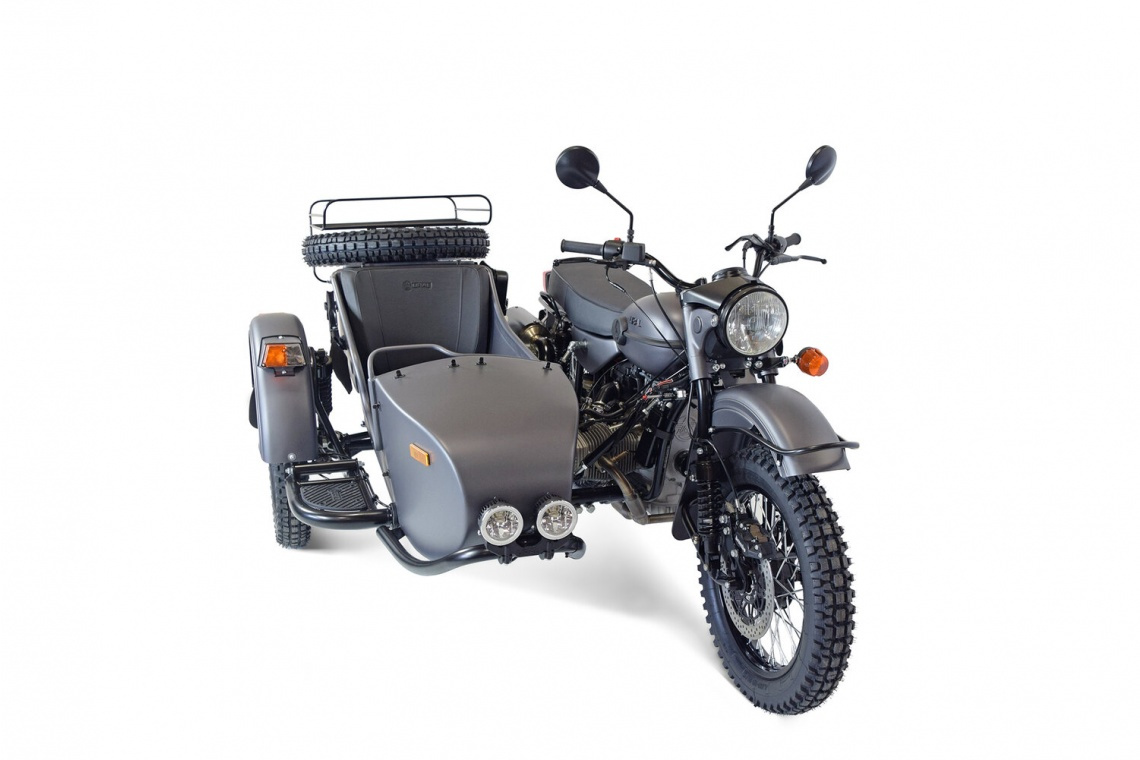bike: (248, 141, 859, 716)
